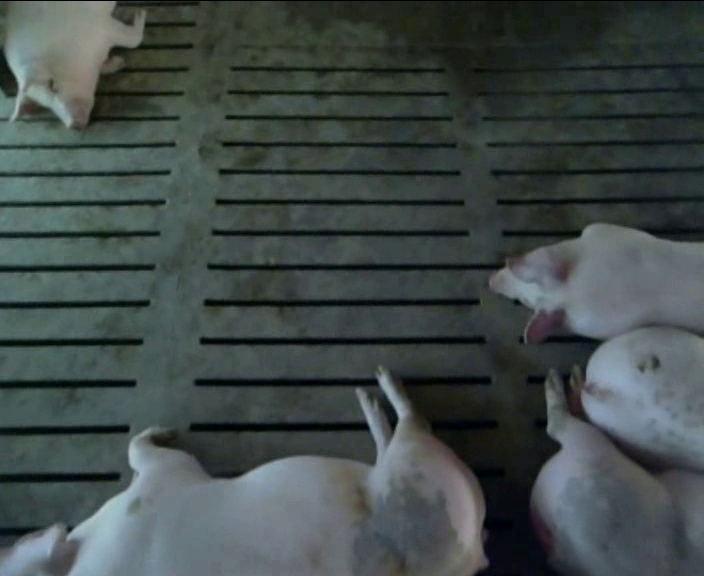pig: (0, 367, 486, 574), (531, 363, 703, 573), (489, 224, 703, 343), (4, 2, 145, 127), (581, 327, 703, 470)
